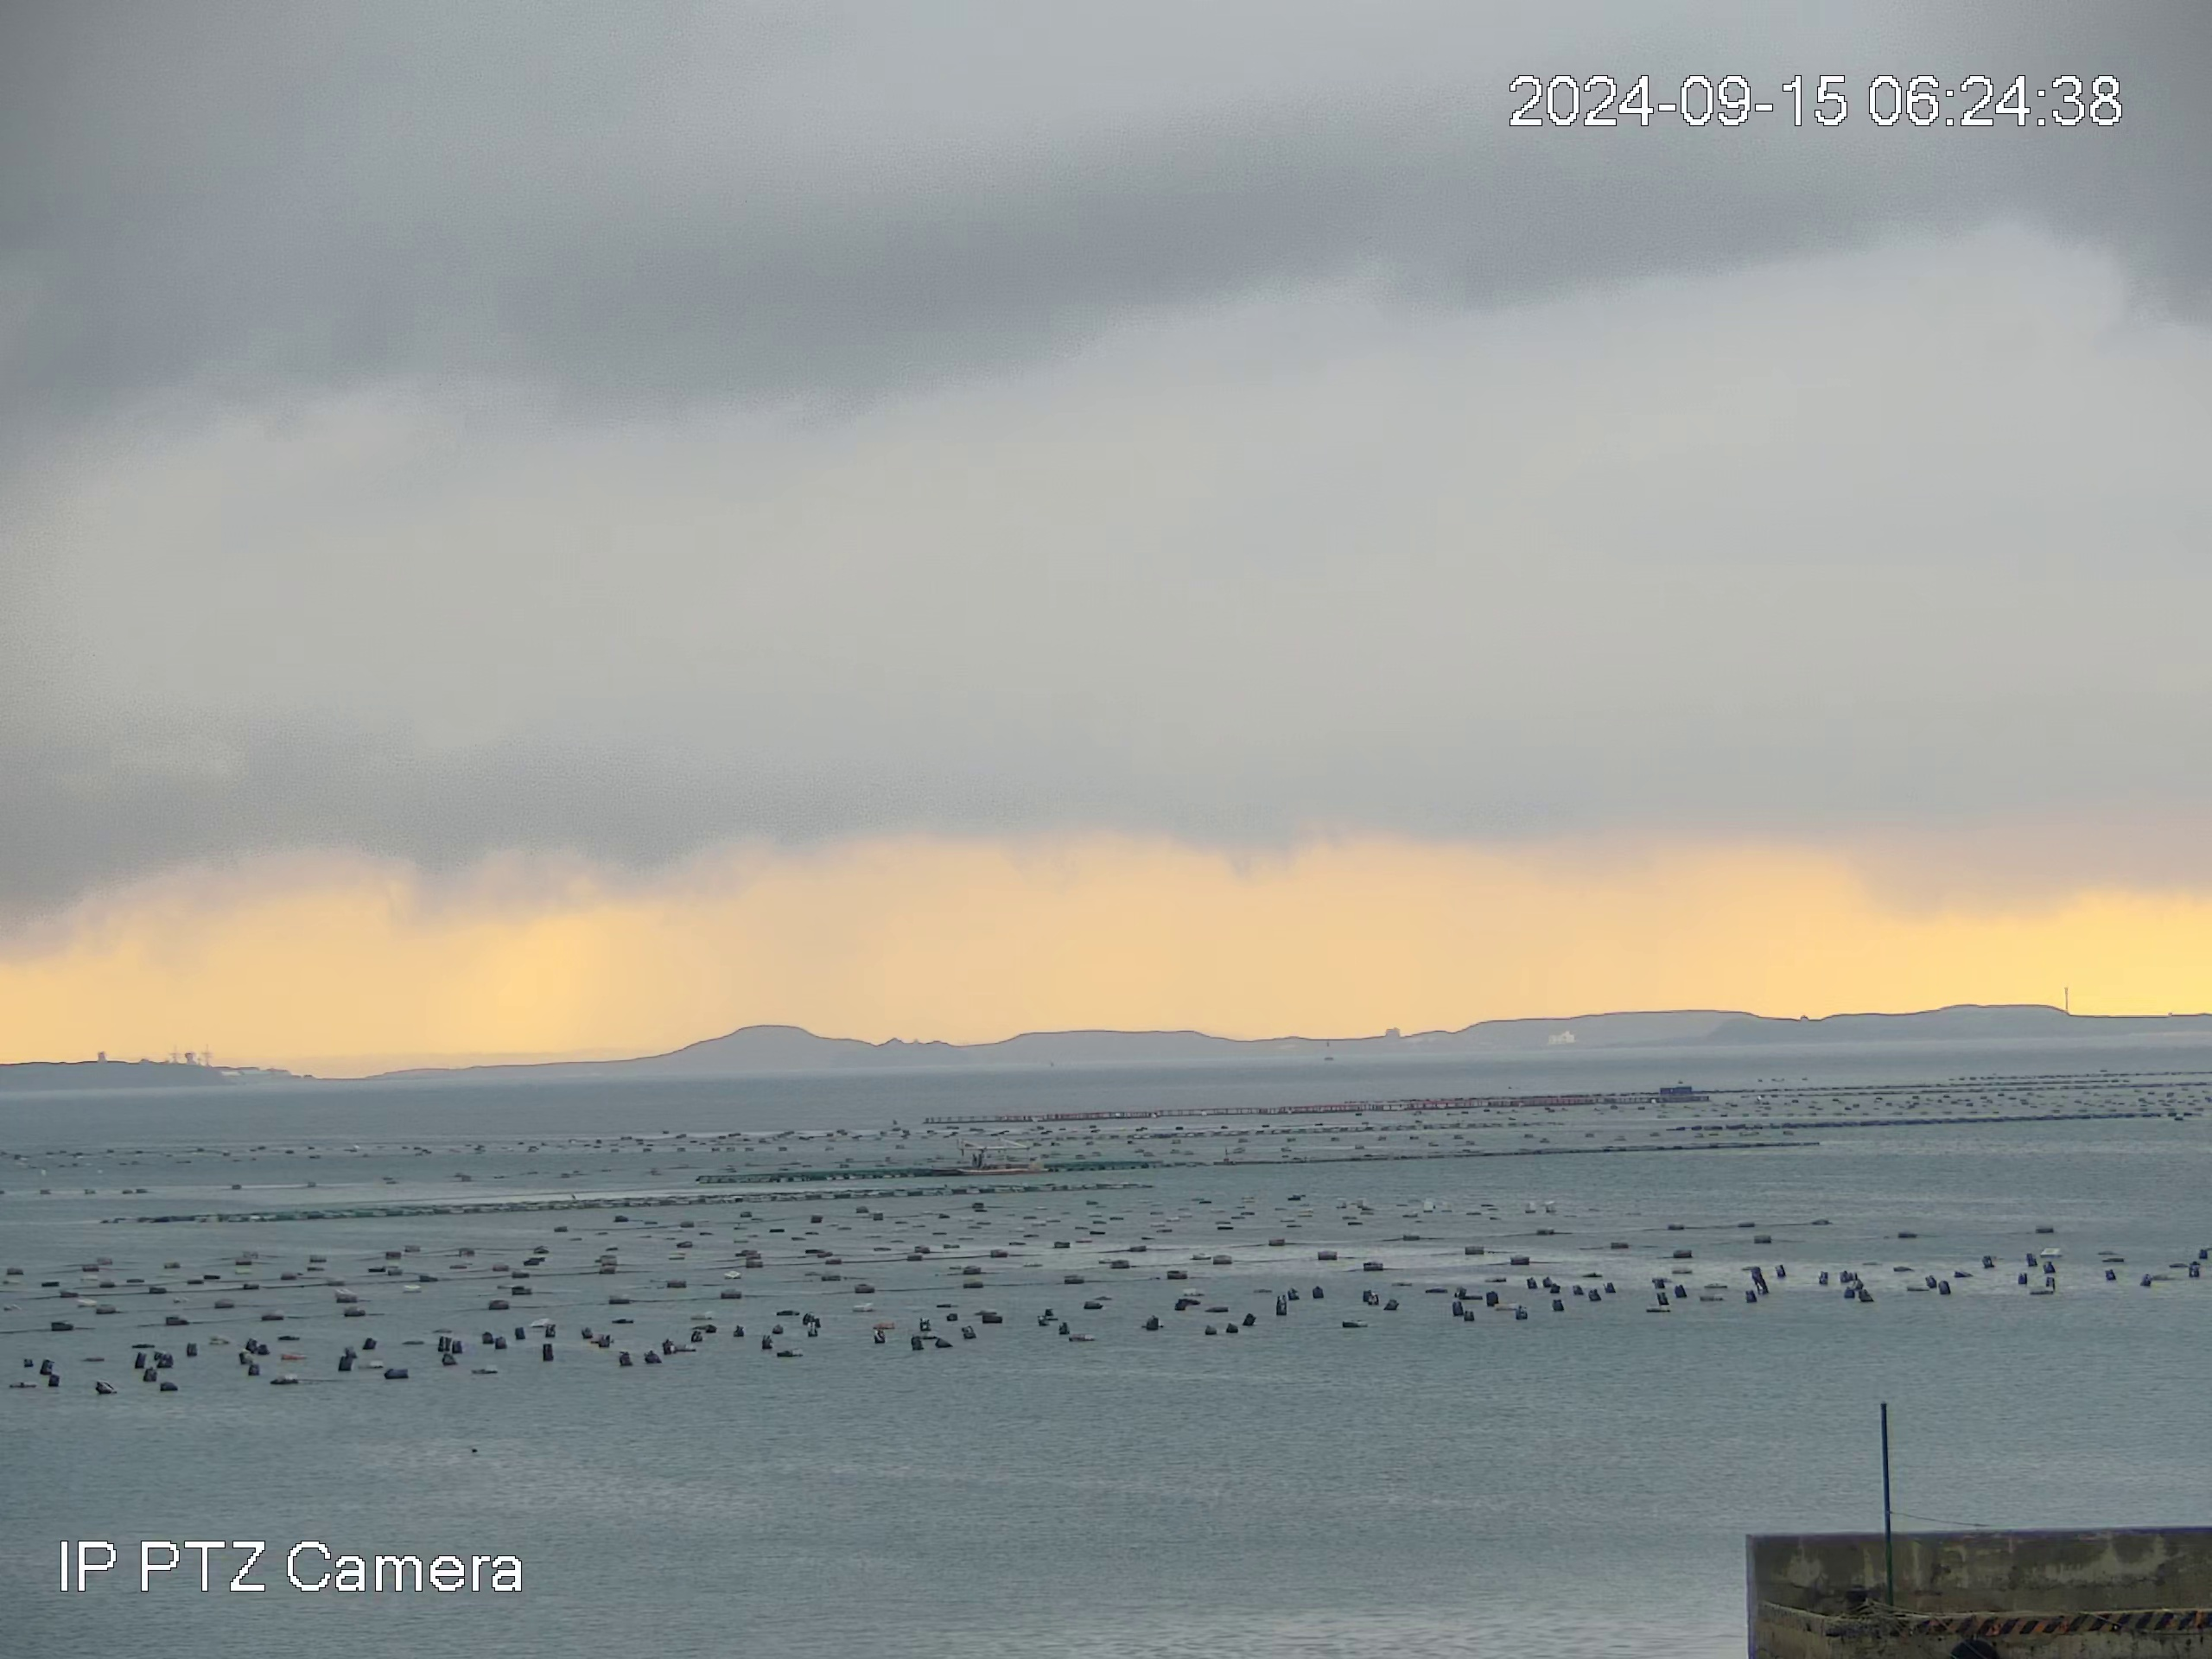boat: (954, 1135, 1052, 1175)
